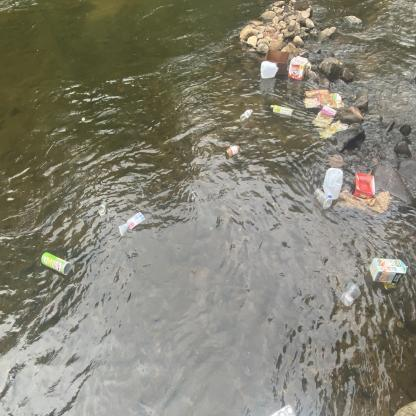trash: (368, 255, 410, 286), (115, 208, 149, 241), (38, 251, 74, 278), (262, 46, 292, 77), (323, 166, 346, 202), (286, 52, 311, 84), (316, 118, 344, 146), (350, 171, 376, 200), (340, 281, 363, 309), (303, 88, 332, 110), (312, 104, 336, 130), (221, 141, 249, 163), (256, 58, 282, 81), (266, 401, 304, 416), (268, 103, 299, 119), (314, 186, 334, 210), (328, 92, 346, 110), (238, 107, 254, 124), (96, 200, 110, 218), (336, 119, 352, 132)
